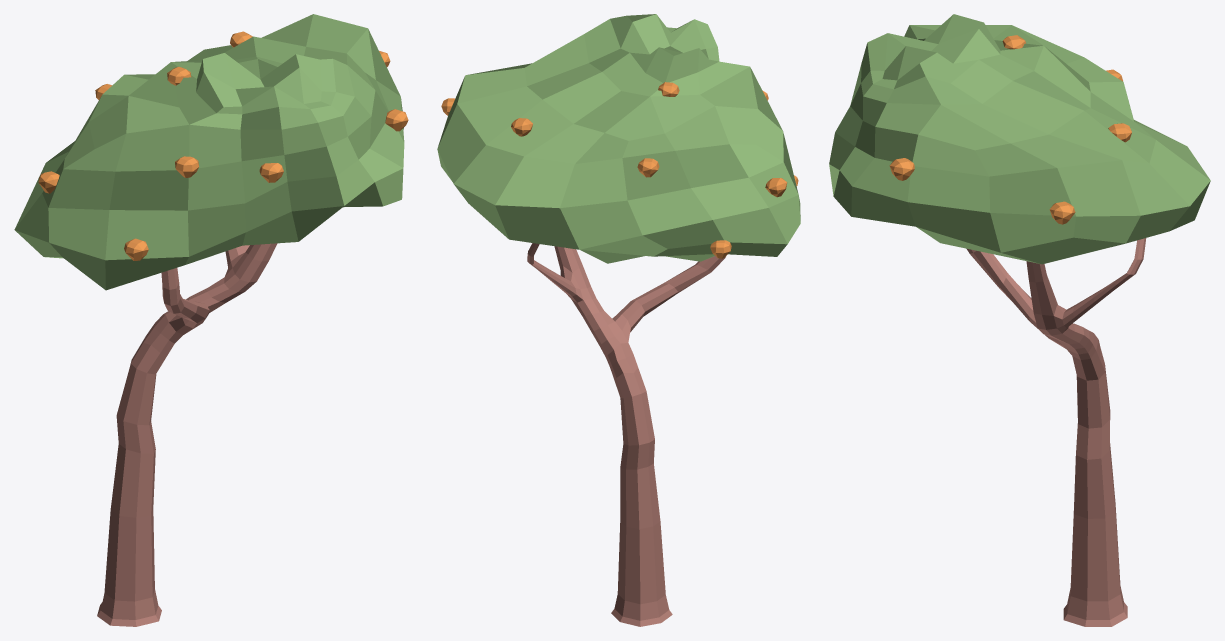
The model's file is orange.glb.
3 renders of one model, left to right at view 1: azimuth 30°, elevation 25°; view 2: azimuth 150°, elevation 25°; view 3: azimuth 270°, elevation 25°, orthographic. The views are drawn at different scales.
Parts seen in each view (by area): view 1: Orange_4; view 2: Orange_4; view 3: Orange_4.
Boxes of the visible parts, bbox=[...] form: Orange_4: bbox=[14, 14, 408, 626]; Orange_4: bbox=[437, 14, 800, 626]; Orange_4: bbox=[829, 14, 1210, 626].
Bounding box in the file's own units: 1.86 × 2.76 × 1.58.
